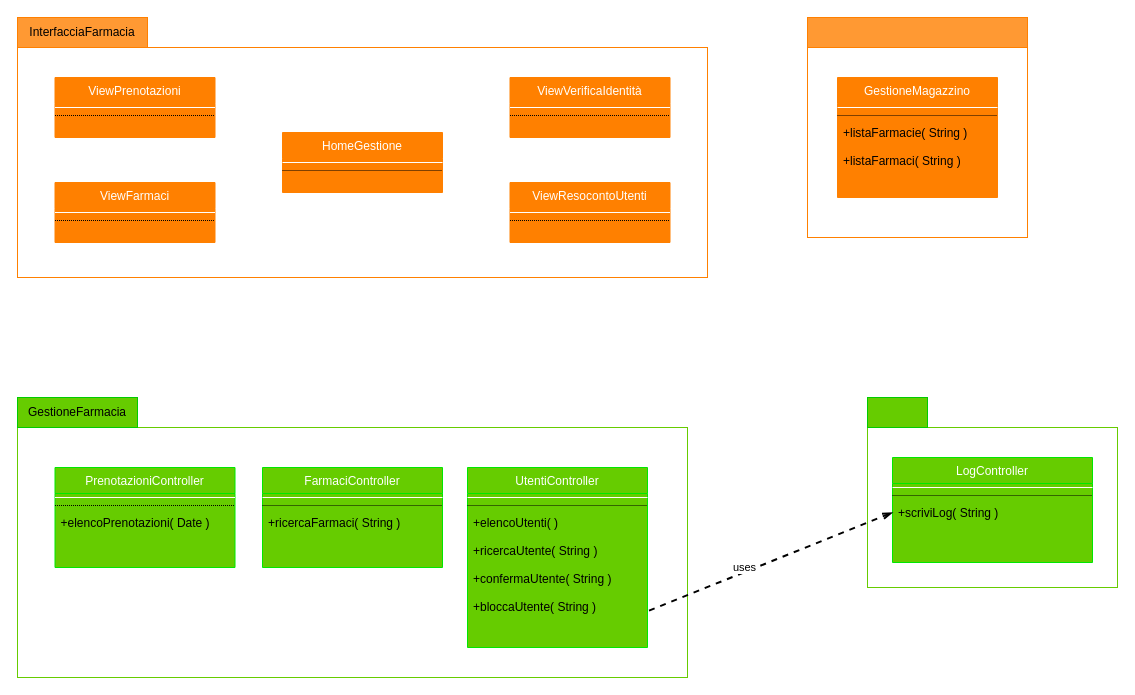
Image size: 1135x695. Some labels were removed from this diagram. The shapes that lost their labels are listed below. From the top down, each one's centre as x and y in pixels, then its label:
the point at 917,32: InterfacciaGestioneMagazzino
the point at 897,412: Log
